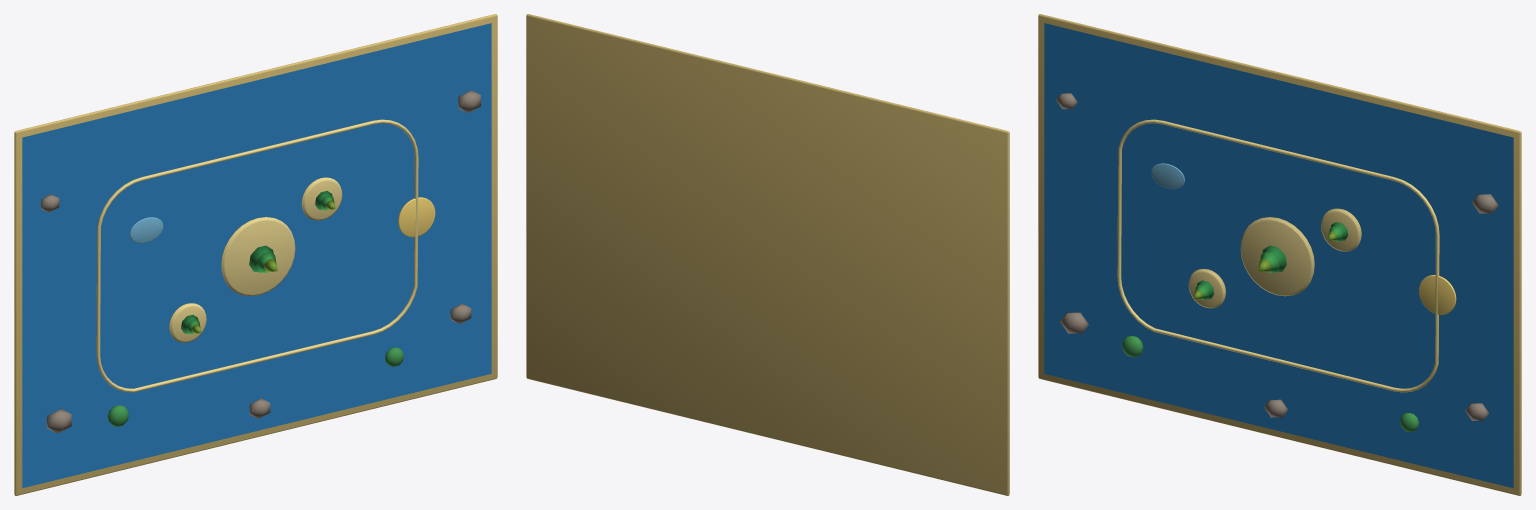
The model's file is carthabot_map_ocean.obj.
The picture shows the model from 3 angles, left to right: view 1: azimuth 30°, elevation 25°; view 2: azimuth 150°, elevation 25°; view 3: azimuth 330°, elevation 25°; orthographic projection.
Visible parts, largest first — view 1: PlayMat, MatRim, LineLoop, Cylinder, Cylinder.004, StartPad, Cylinder.002, Cylinder.006; view 2: MatRim; view 3: PlayMat, MatRim, LineLoop, Cylinder, StartPad, Cylinder.004, Cylinder.002, Cylinder.006.
Boxes of the visible parts, x1,y1,x2,y2 form: PlayMat: (22, 23, 491, 488); MatRim: (14, 14, 497, 495); LineLoop: (96, 119, 418, 392); Cylinder: (221, 217, 295, 296); Cylinder.004: (301, 177, 342, 220); StartPad: (398, 197, 435, 237); Cylinder.002: (169, 303, 206, 342); Cylinder.006: (130, 217, 163, 243); MatRim: (526, 14, 1009, 495); PlayMat: (1044, 23, 1513, 488); MatRim: (1038, 14, 1521, 495); LineLoop: (1117, 119, 1439, 392); Cylinder: (1240, 217, 1314, 296); StartPad: (1419, 275, 1456, 314); Cylinder.004: (1321, 208, 1361, 251); Cylinder.002: (1188, 269, 1225, 308); Cylinder.006: (1151, 163, 1184, 189).
Size of the model in its own units: 28.8 by 20.8 by 2.35.
